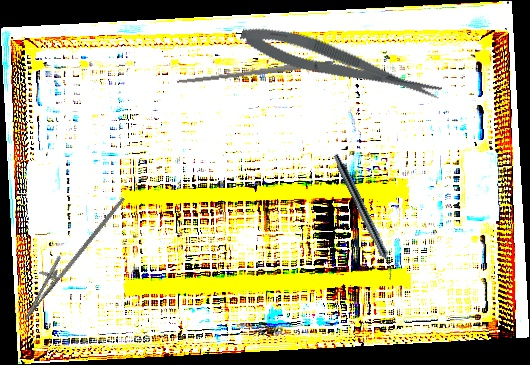Handpiece: (329, 151, 400, 281)
Micro Scissor: (236, 15, 445, 114)
Needle Holder: (14, 181, 125, 331)
Scalpel Handle: (176, 59, 336, 86)
